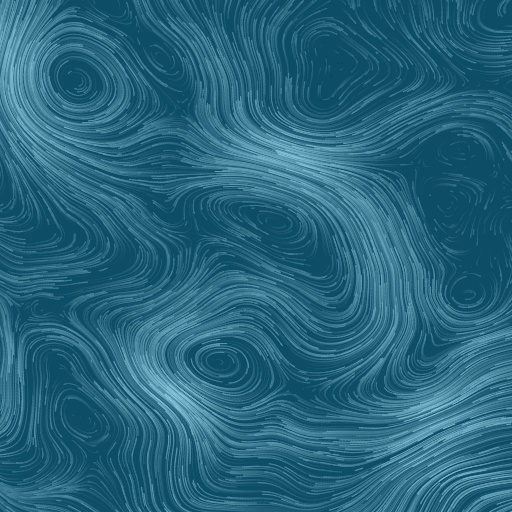eddy: (34, 29, 132, 126), (172, 319, 272, 405), (296, 19, 382, 117), (409, 165, 486, 257), (216, 190, 314, 251), (55, 390, 115, 449), (446, 267, 494, 311), (141, 37, 179, 80)
